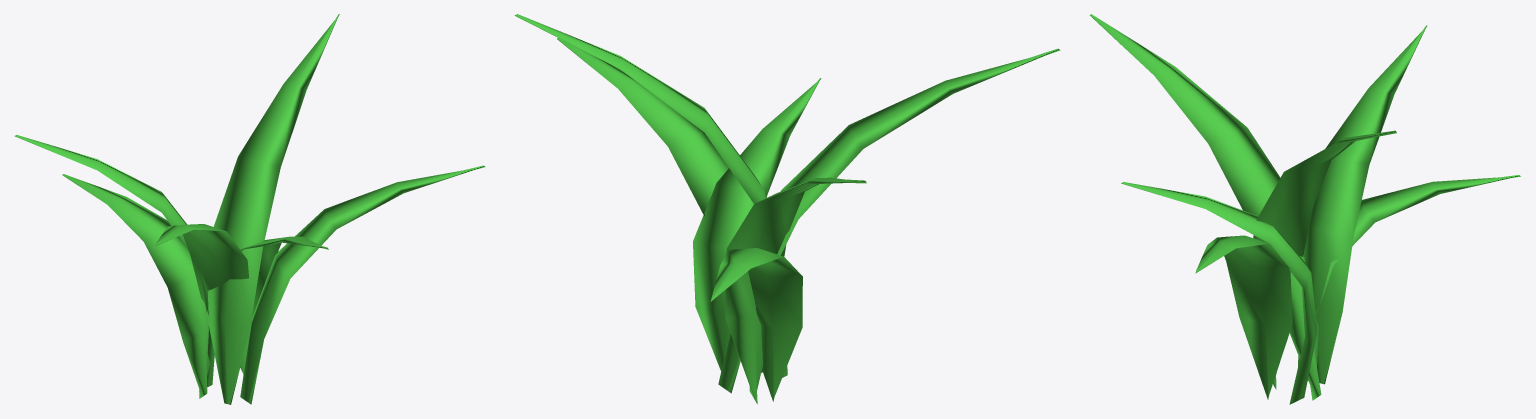
File: grass_tuft.glb
3 renders of one model, left to right at view 1: azimuth 30°, elevation 25°; view 2: azimuth 150°, elevation 25°; view 3: azimuth 270°, elevation 25°, orthographic. The views are drawn at different scales.
Parts seen in each view (by area): view 1: GrassTuft; view 2: GrassTuft; view 3: GrassTuft.
Part boxes in pixels (bbox=[...]): GrassTuft: bbox=[14, 14, 485, 404]; GrassTuft: bbox=[514, 14, 1060, 404]; GrassTuft: bbox=[1089, 14, 1520, 404].
Size of the model in its own units: 0.6908 by 0.5463 by 0.6144.
